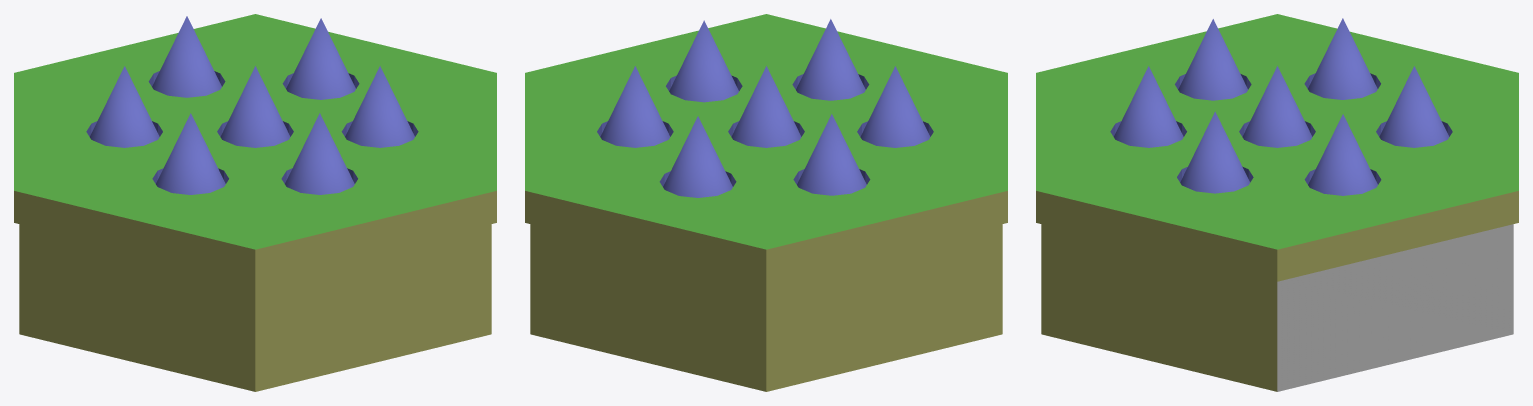
The model's file is Spike_Tile_Up.fbx.
3 renders of one model, left to right at view 1: azimuth 30°, elevation 25°; view 2: azimuth 150°, elevation 25°; view 3: azimuth 270°, elevation 25°, orthographic.
Parts seen in each view (by area): view 1: pCylinder18; view 2: pCylinder18; view 3: pCylinder18.
Boxes of the visible parts, box(x1,y1,x2,y2) form: pCylinder18: box(14, 14, 496, 391); pCylinder18: box(525, 14, 1007, 391); pCylinder18: box(1036, 14, 1518, 391).
Size of the model in its own units: 9.25 by 3.86 by 8.01.
